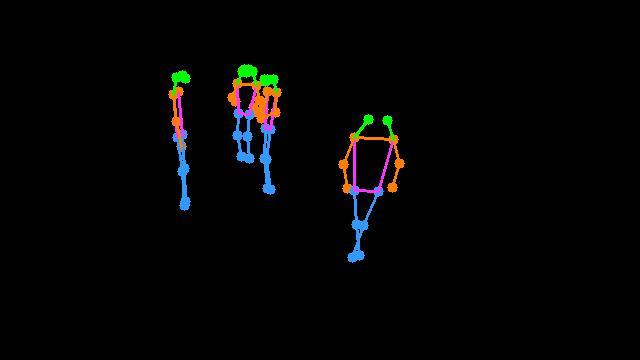normal: (314, 91, 422, 277), (212, 49, 305, 207), (155, 49, 216, 220)
